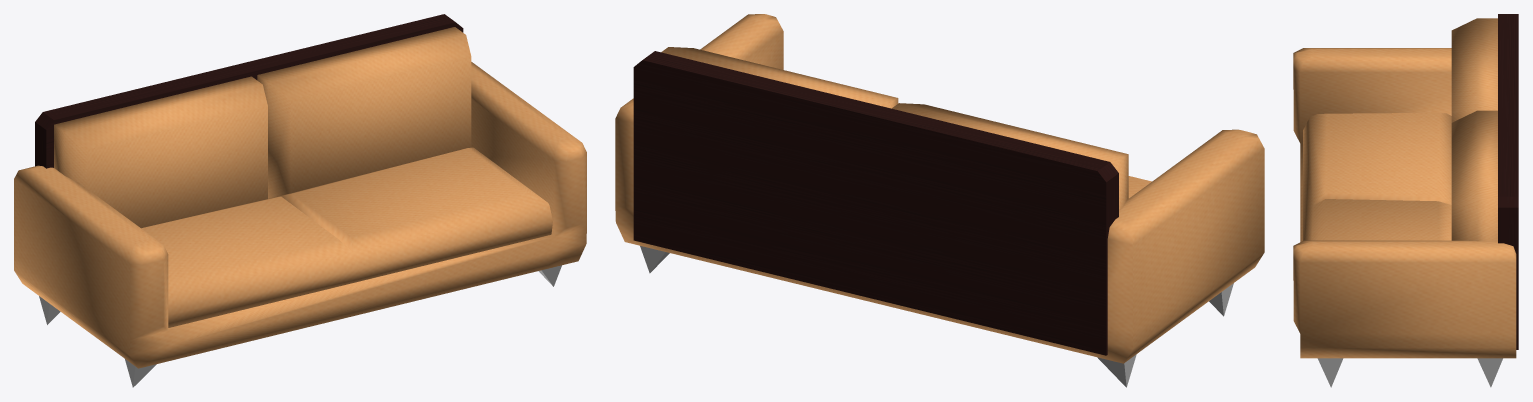
The model's file is Loveseat_03.FBX.
3 views of the same model, side by side, from view 1: azimuth 30°, elevation 25°; view 2: azimuth 150°, elevation 25°; view 3: azimuth 270°, elevation 25° (orthographic). The views are drawn at different scales.
Visible parts, largest first — view 1: Loveseat; view 2: Loveseat; view 3: Loveseat.
Part boxes in pixels (box(x1,y1,x2,y2)): Loveseat: box(14, 14, 586, 387); Loveseat: box(615, 14, 1264, 387); Loveseat: box(1293, 14, 1518, 387).
Bounding box in the file's own units: 372 × 157 × 171.
